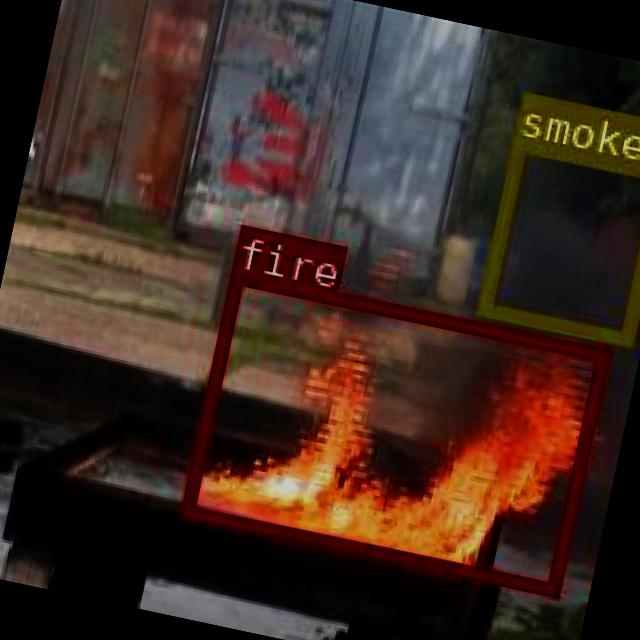fire: (178, 266, 607, 594)
smoke: (474, 134, 640, 345)
